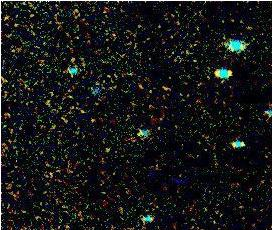star: (168, 164, 198, 194)
